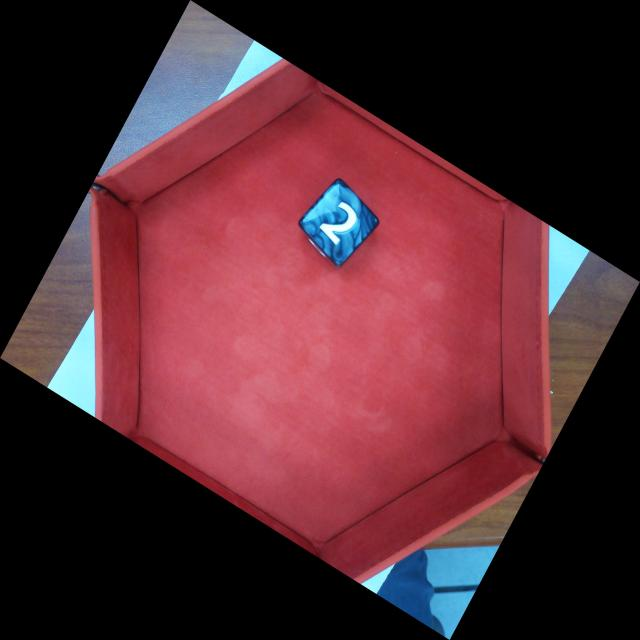dice: (296, 177, 381, 269)
